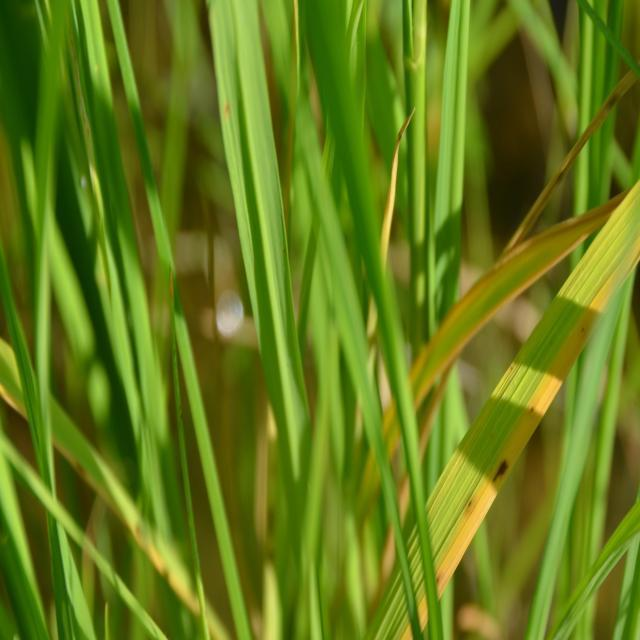Rice Tungro: (317, 120, 636, 640)
